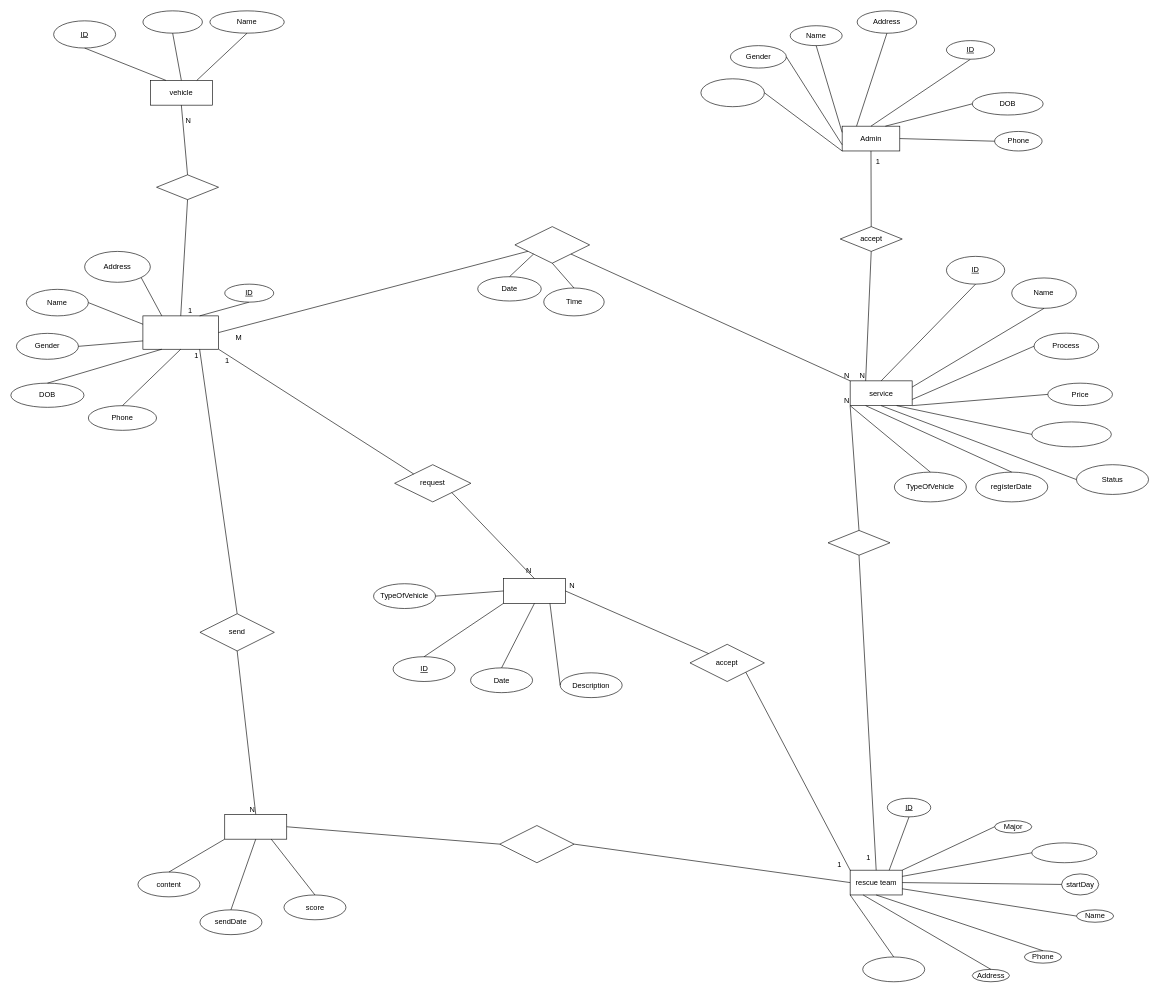
This 1159x993 diagram has some shape labels left out. The centre of each missing label's shape, as x and y in pixels:
Achievements: [1064,852]
average_score: [893,969]
client: [180,332]
Evaluation: [255,826]
Introdution: [1071,434]
own: [187,187]
Position: [732,92]
recept: [536,844]
register: [858,542]
Rescue Request: [534,590]
Type: [172,21]
use: [552,244]
